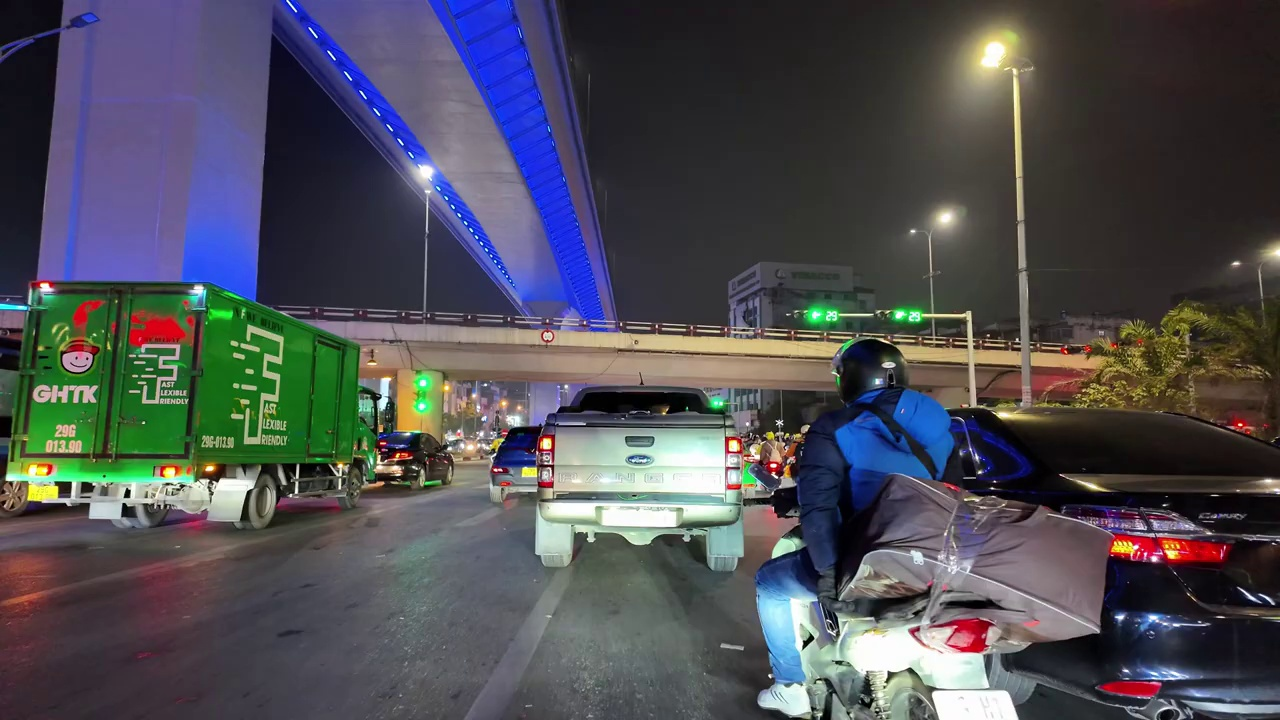acesa: (974, 36, 1012, 73), (932, 205, 958, 232), (412, 164, 435, 188), (1264, 240, 1279, 266)
